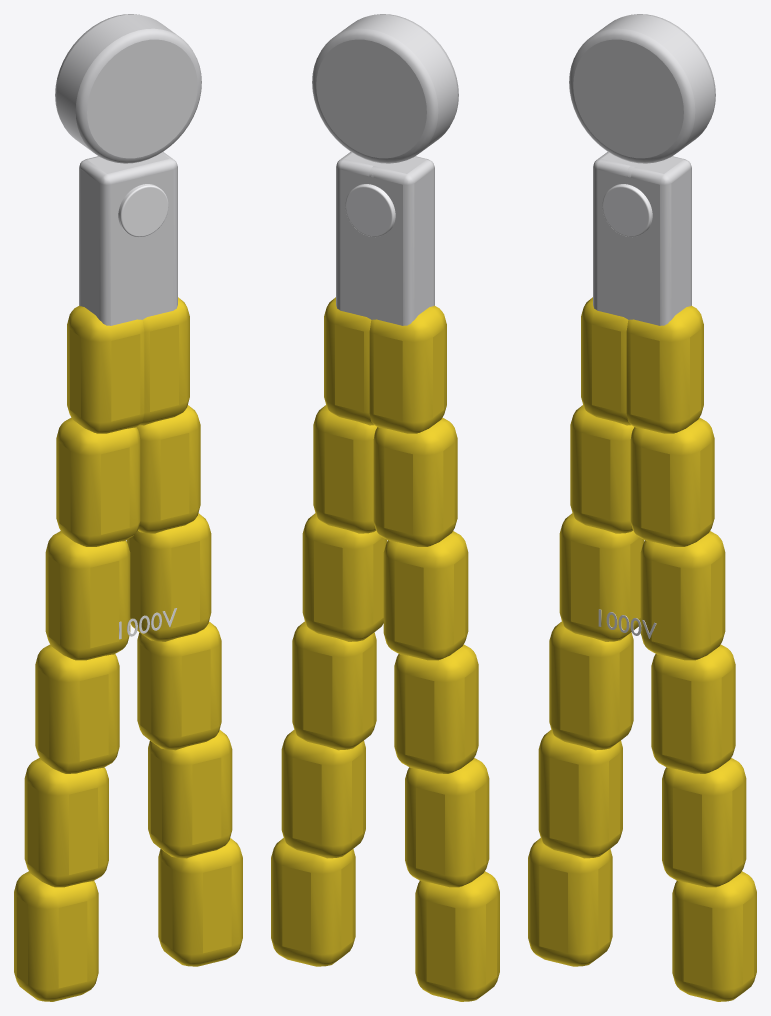
Rendered from cutter.glb.
The picture shows the model from 3 angles, left to right: view 1: azimuth 30°, elevation 25°; view 2: azimuth 150°, elevation 25°; view 3: azimuth 330°, elevation 25°; orthographic projection.
Parts seen in each view (by area): view 1: grip, head; view 2: grip, head; view 3: grip, head.
Boxes of the visible parts, box(x1,y1,x2,y2) form: grip: box(14, 297, 242, 1001); head: box(55, 14, 201, 325); grip: box(271, 297, 499, 1001); head: box(312, 14, 458, 325); grip: box(528, 297, 756, 1001); head: box(569, 14, 715, 325).
Size of the model in its own units: 0.044 by 0.189 by 0.0123.
